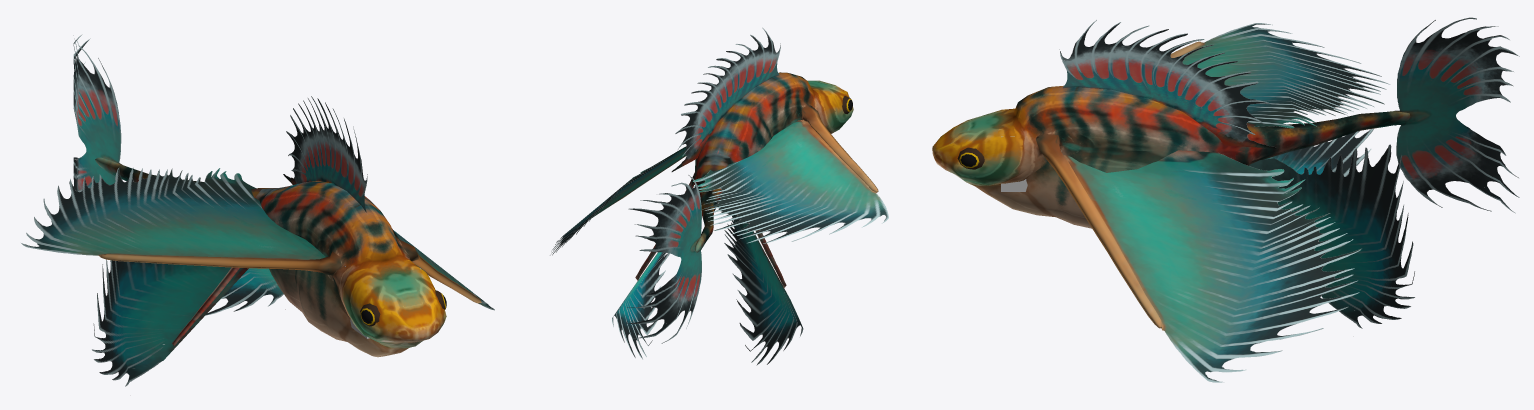
Rendered from fish.obj.
3 renders of one model, left to right at view 1: azimuth 30°, elevation 25°; view 2: azimuth 150°, elevation 25°; view 3: azimuth 270°, elevation 25°, orthographic. The views are drawn at different scales.
Visible parts, largest first — view 1: flyingFish_low_StingrayPBS1_0; view 2: flyingFish_low_StingrayPBS1_0; view 3: flyingFish_low_StingrayPBS1_0.
Part boxes in pixels (x1=…): flyingFish_low_StingrayPBS1_0: x1=21, y1=34, x2=494, y2=386; flyingFish_low_StingrayPBS1_0: x1=550, y1=27, x2=888, y2=365; flyingFish_low_StingrayPBS1_0: x1=932, y1=17, x2=1519, y2=382.
Size of the model in its own units: 17.29 by 11.55 by 19.29.
